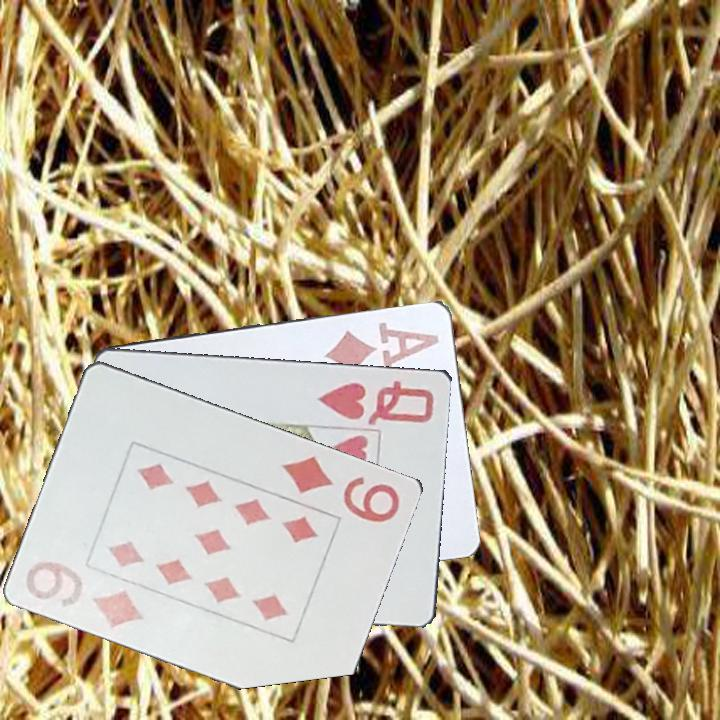9d: (277, 450, 403, 528), (22, 557, 147, 634)
Ad: (321, 318, 443, 375)
Qh: (314, 376, 437, 428)
